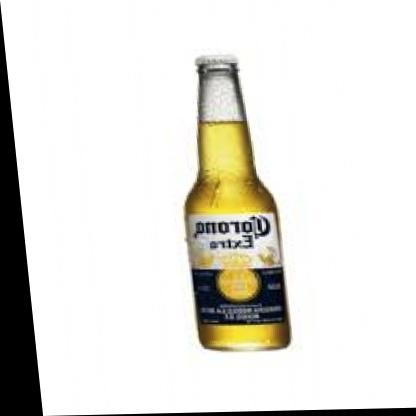trash: (185, 56, 289, 349)
